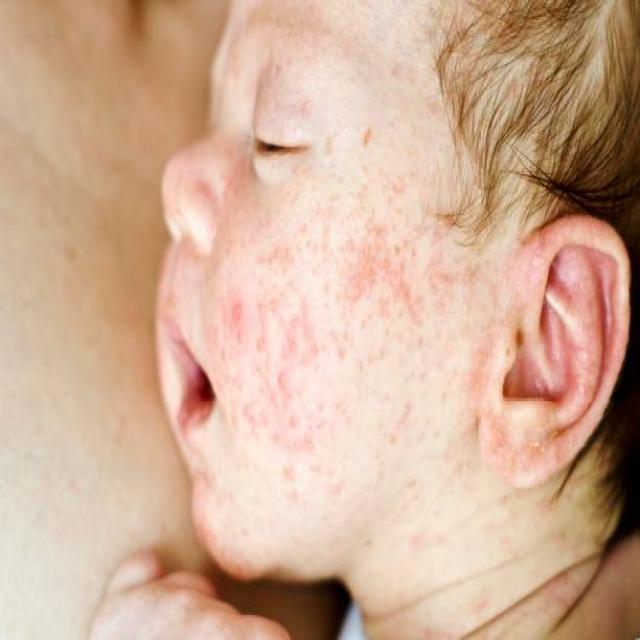Eczema: (212, 278, 439, 437)
